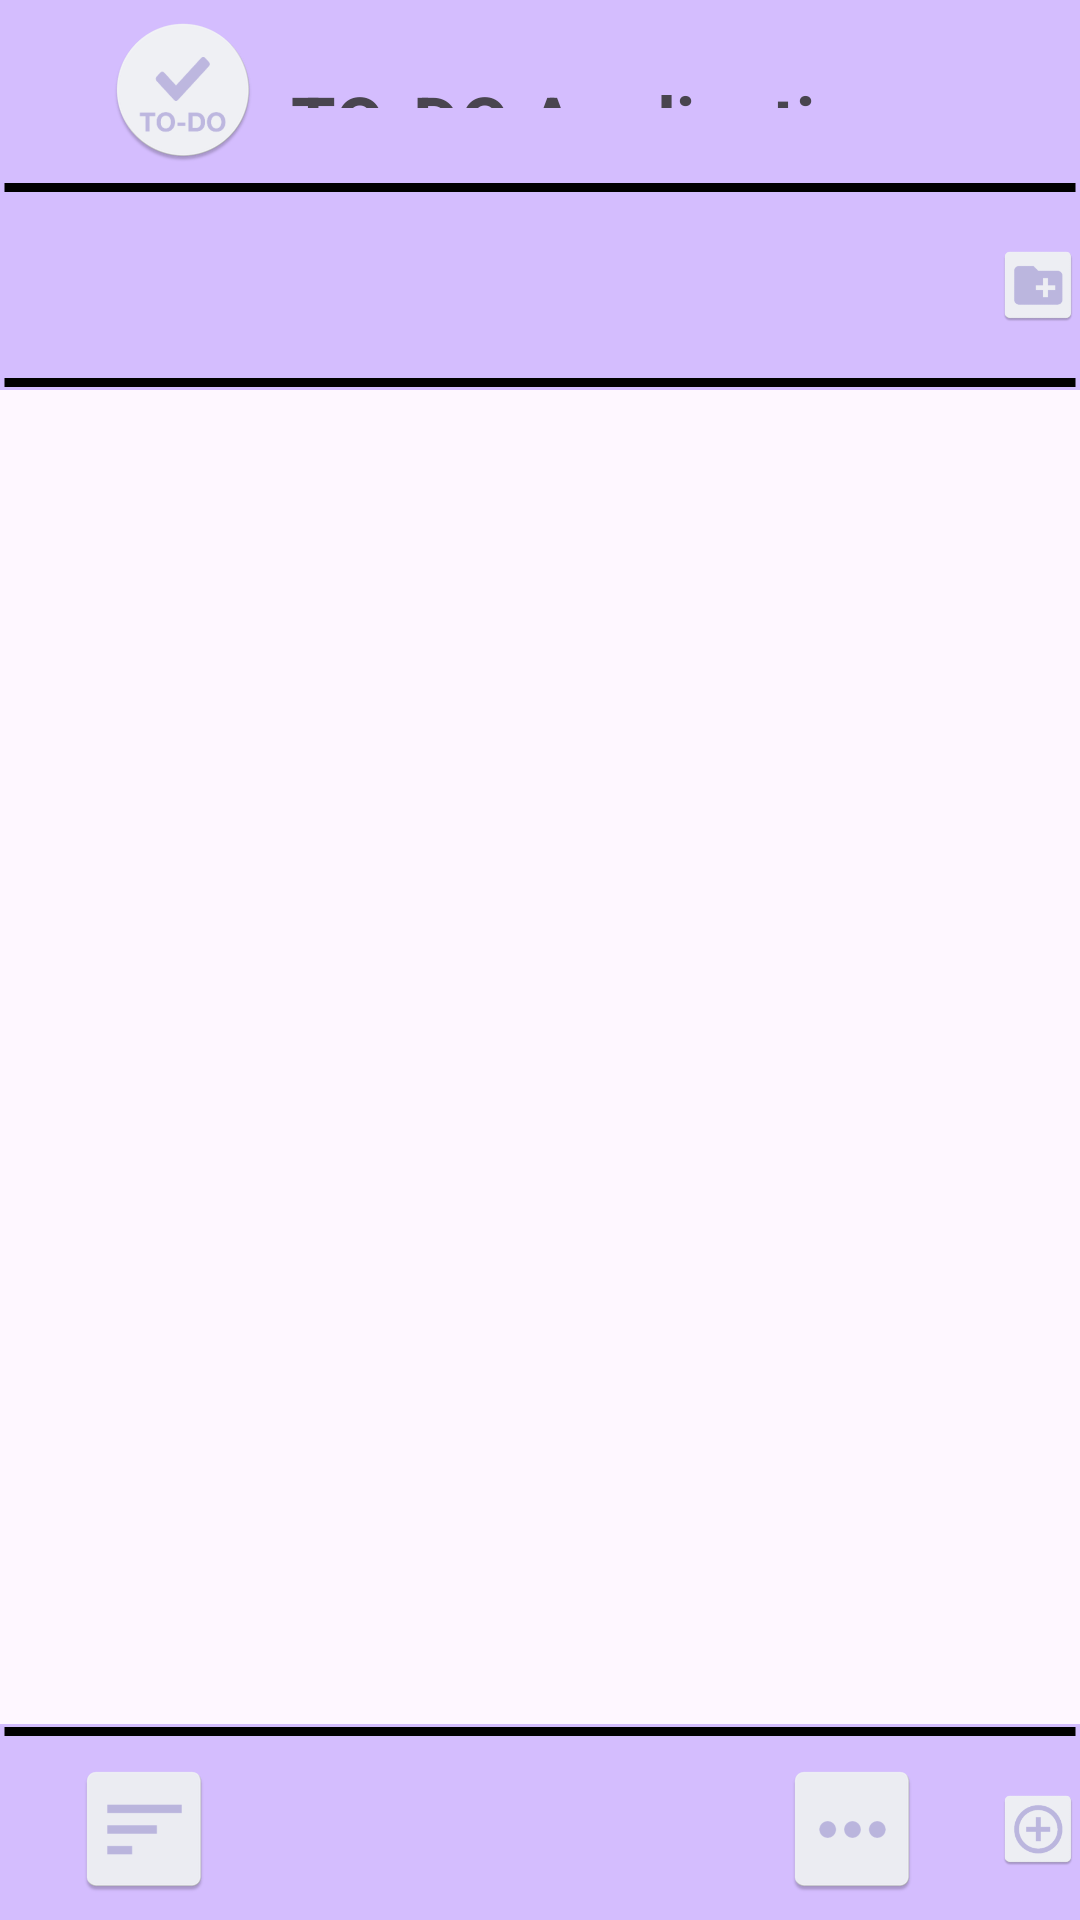

Where icons sit on this 1080 x 1920 app screen, as (x1, y1, x2, y2):
add: (1005, 1796, 1072, 1864)
add list: (1005, 252, 1072, 320)
more: (795, 1772, 910, 1890)
